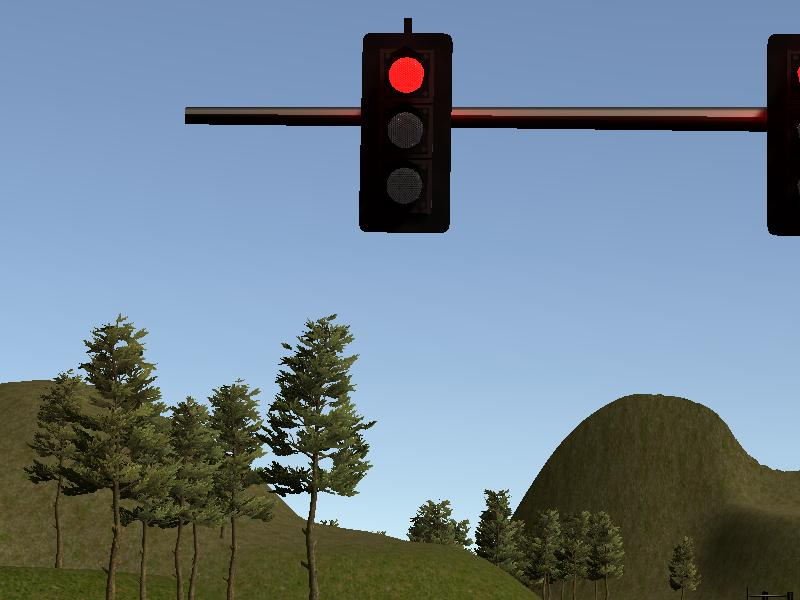Red: (363, 33, 450, 234)
